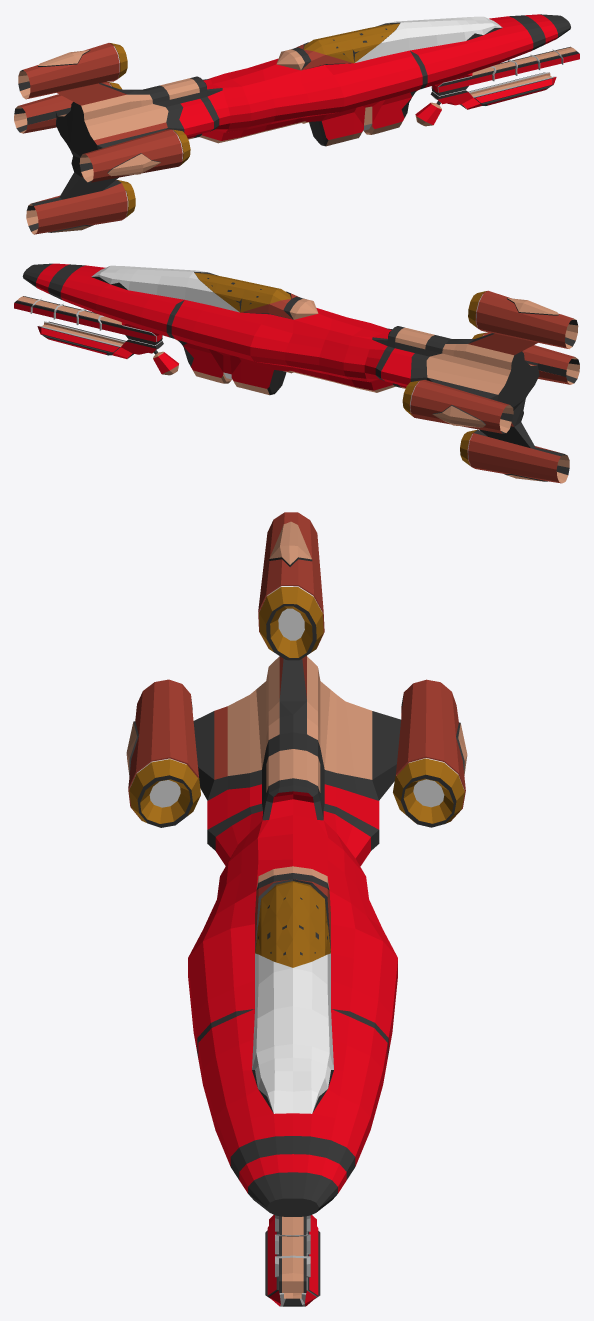
3 renders of one model, top to bottom at view 1: azimuth 30°, elevation 25°; view 2: azimuth 150°, elevation 25°; view 3: azimuth 270°, elevation 25°, orthographic. The views are drawn at different scales.
Parts seen in each view (by area): view 1: SoloWUPG.001; view 2: SoloWUPG.001; view 3: SoloWUPG.001.
Part boxes in pixels (x1=…): SoloWUPG.001: x1=14, y1=14, x2=579, y2=234; SoloWUPG.001: x1=14, y1=263, x2=579, y2=483; SoloWUPG.001: x1=126, y1=512, x2=467, y2=1306.
Size of the model in its own units: 471 by 144 by 126.
